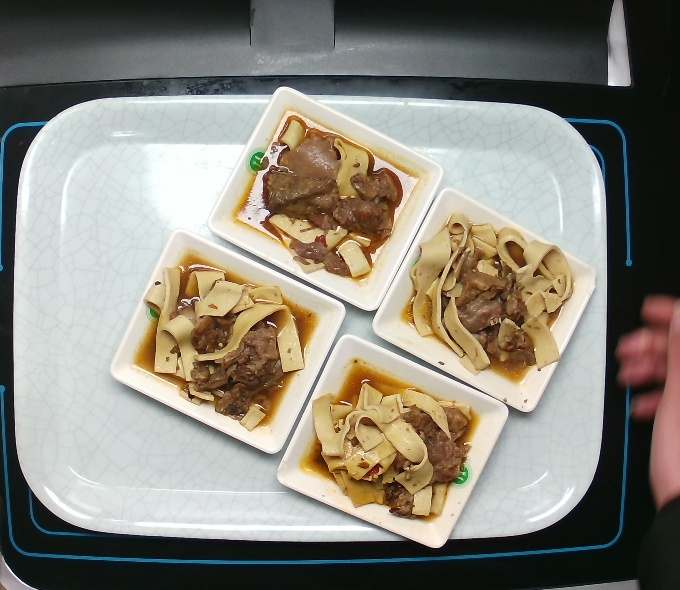wcq-QianZhangNiuNan: (399, 207, 583, 384), (137, 257, 309, 431), (249, 103, 408, 286), (307, 378, 486, 526)
